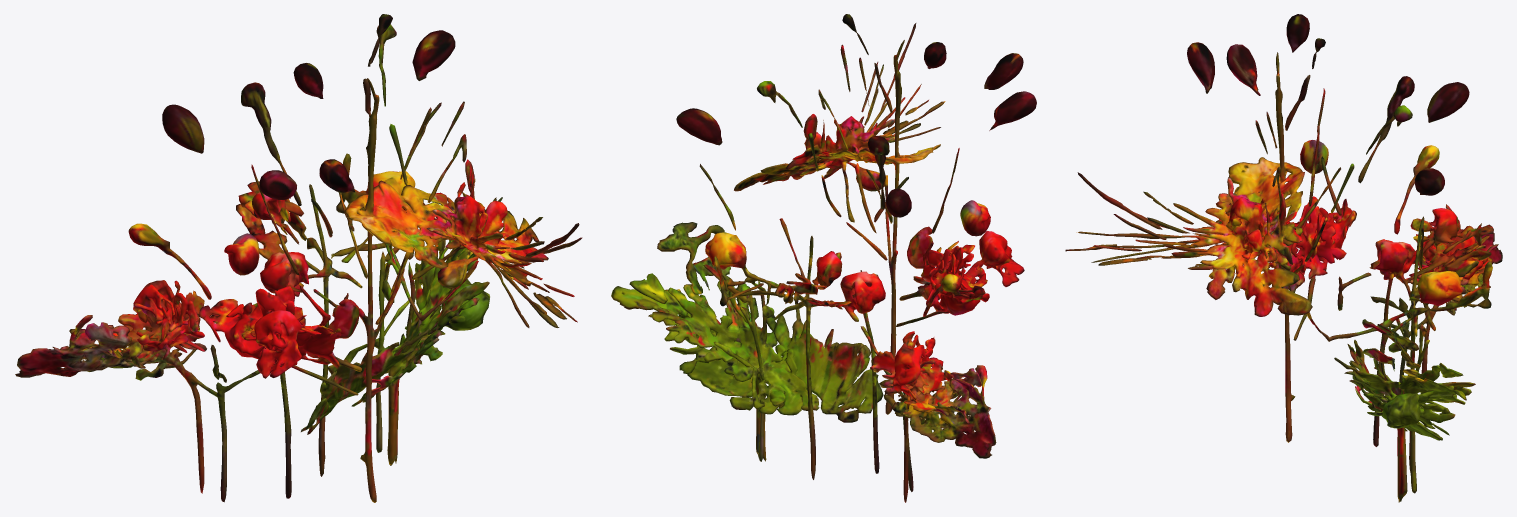
Rendered from tree0012_dup.gltf.
The picture shows the model from 3 angles, left to right: view 1: azimuth 30°, elevation 25°; view 2: azimuth 150°, elevation 25°; view 3: azimuth 270°, elevation 25°; orthographic projection. The views are drawn at different scales.
Parts seen in each view (by area): view 1: Mesh_0.048; view 2: Mesh_0.048; view 3: Mesh_0.048.
Part boxes in pixels (x1,y1,x2,y2): Mesh_0.048: (15,14,582,502); Mesh_0.048: (611,14,1036,502); Mesh_0.048: (1065,14,1502,502).
Size of the model in its own units: 1.95 by 2 by 1.79.
1 material, 1 textured.
